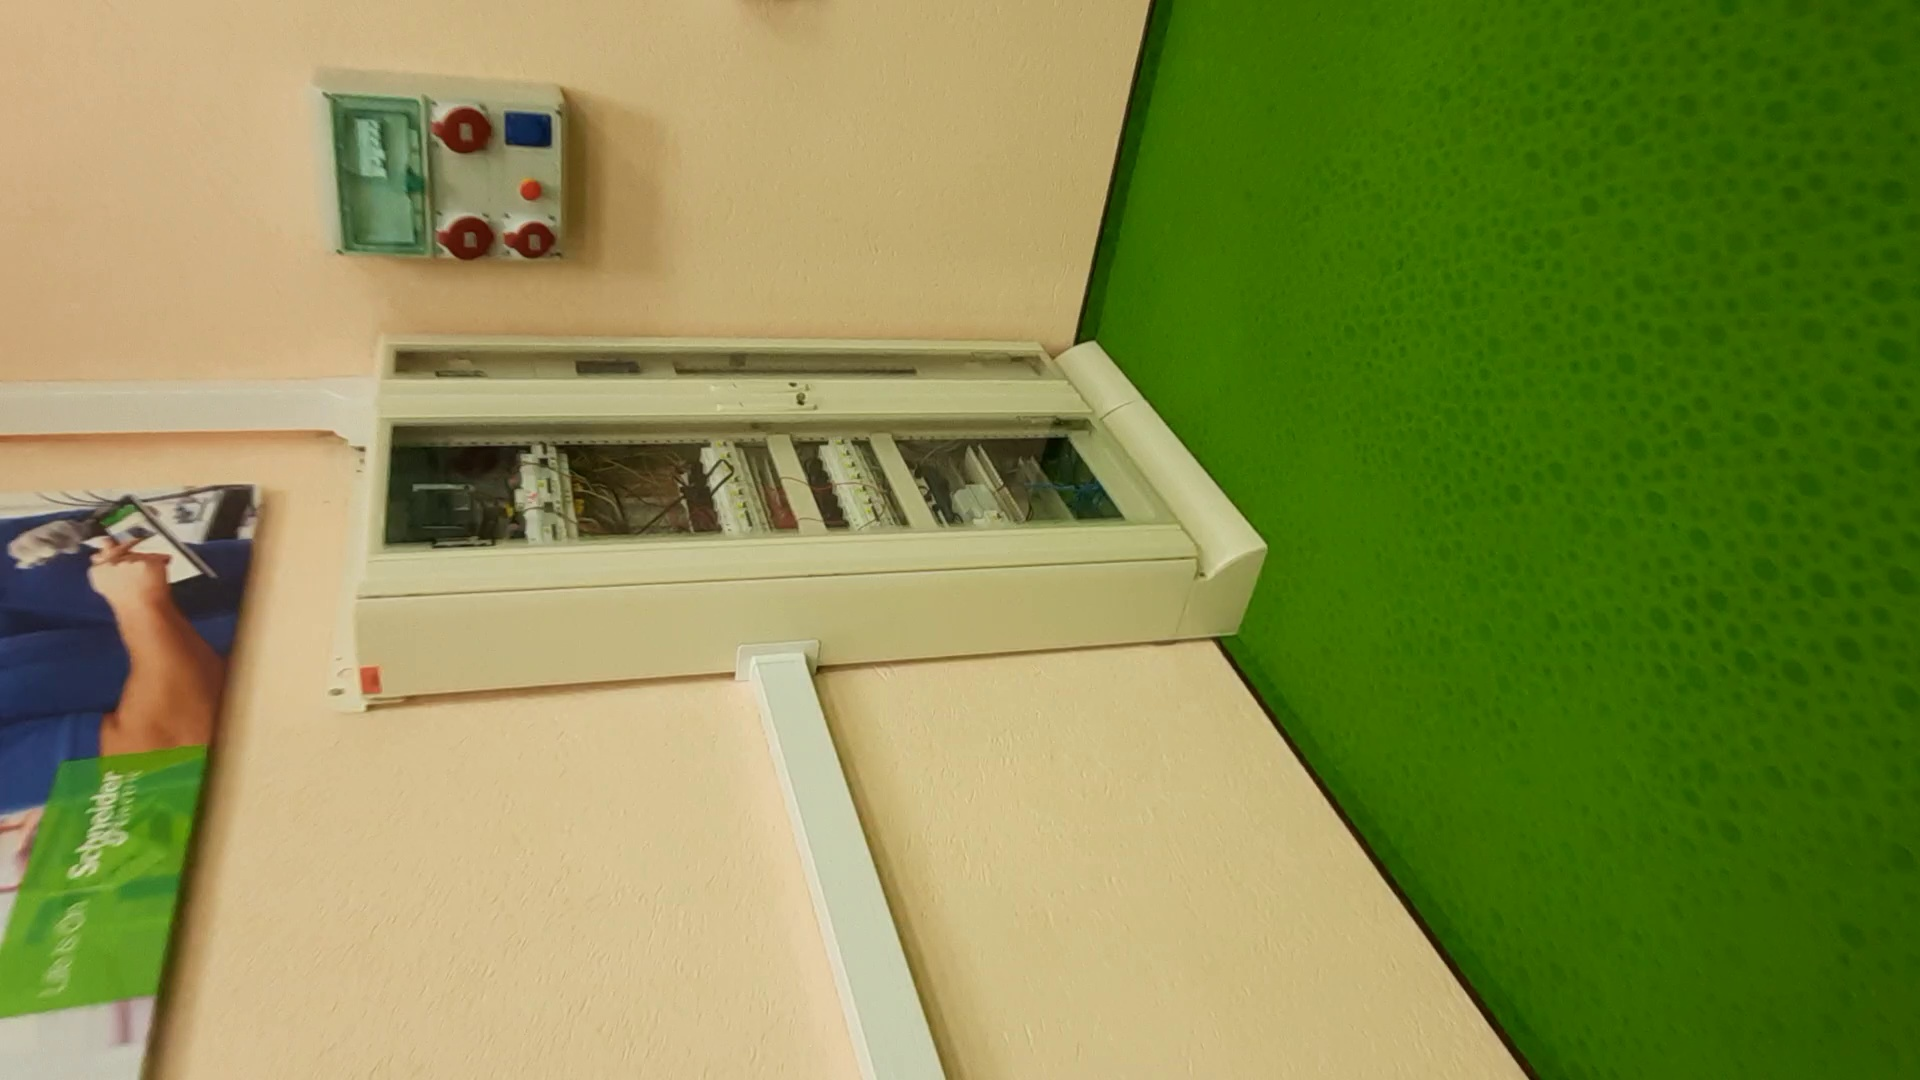stand1: (340, 327, 1265, 731)
